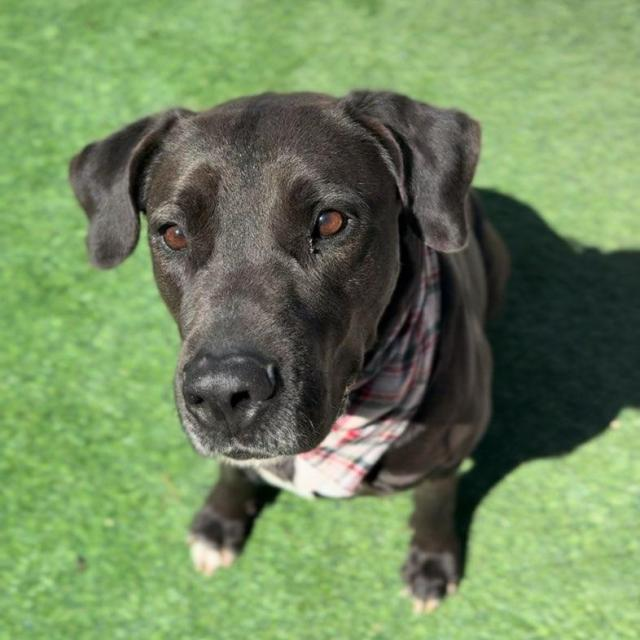labrador_retriever_dog: (47, 78, 504, 480)
